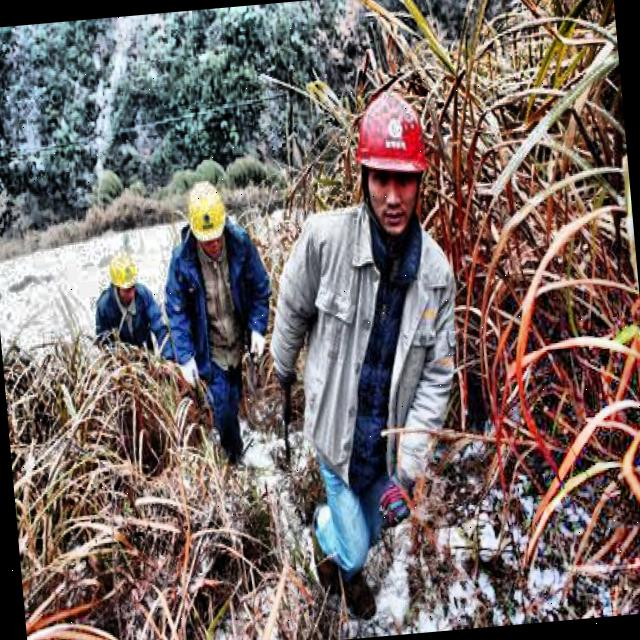helmet: (346, 86, 442, 240), (183, 173, 231, 257), (104, 246, 139, 298)
